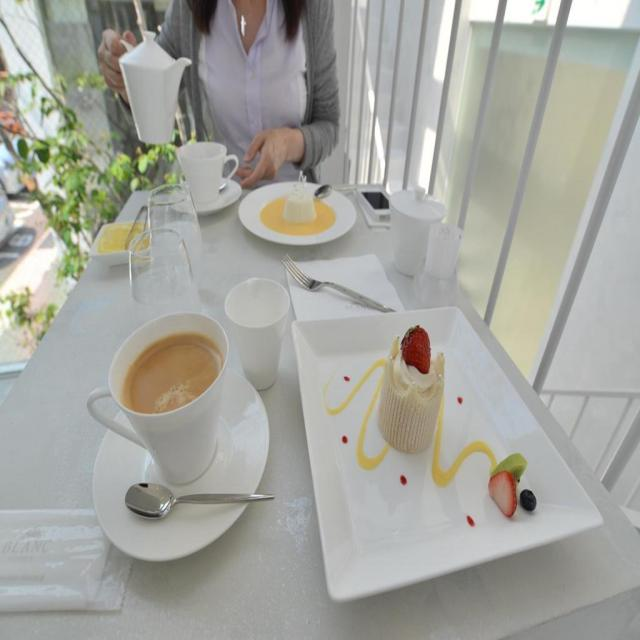Coffee: (119, 332, 222, 417)
Tea: (118, 335, 224, 410)
